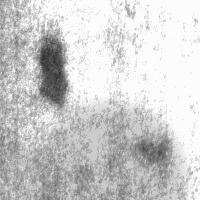patches: (29, 99, 189, 200), (38, 34, 69, 109)
